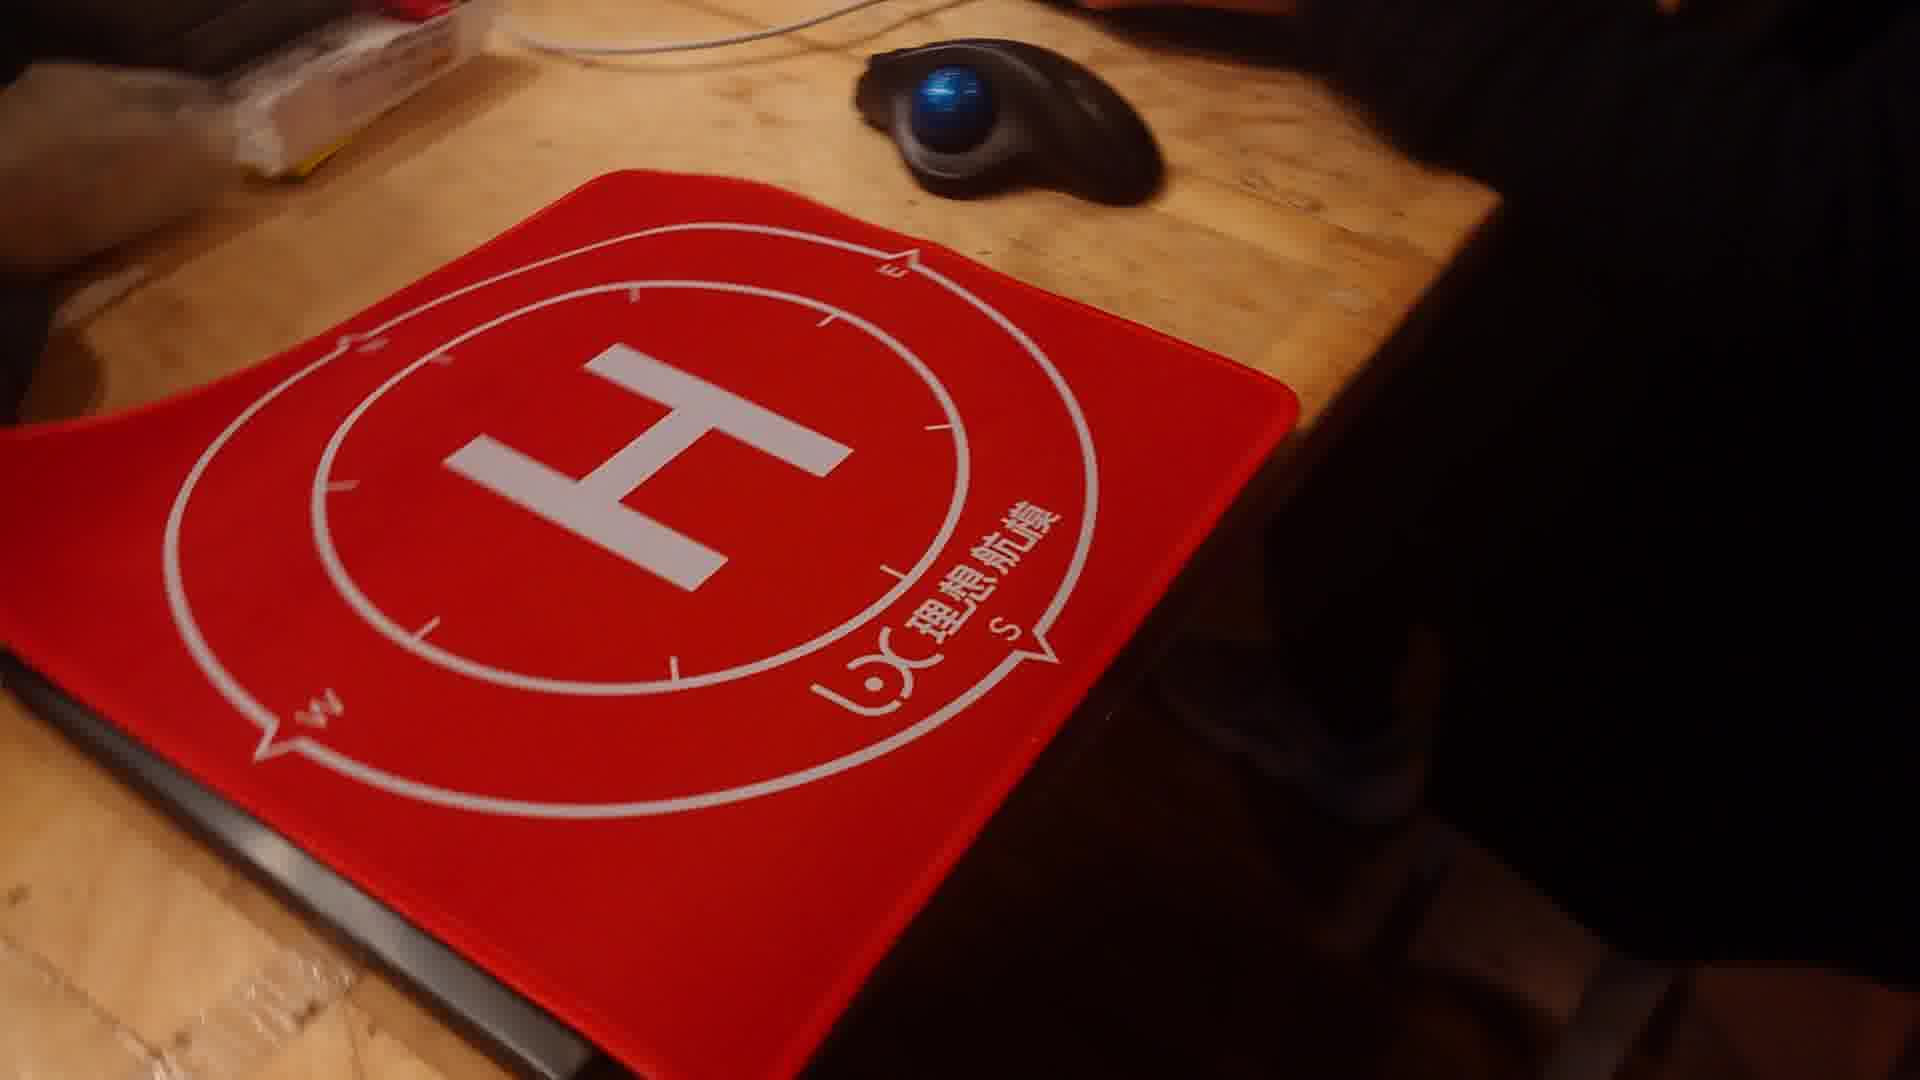H: (444, 342, 860, 592)
